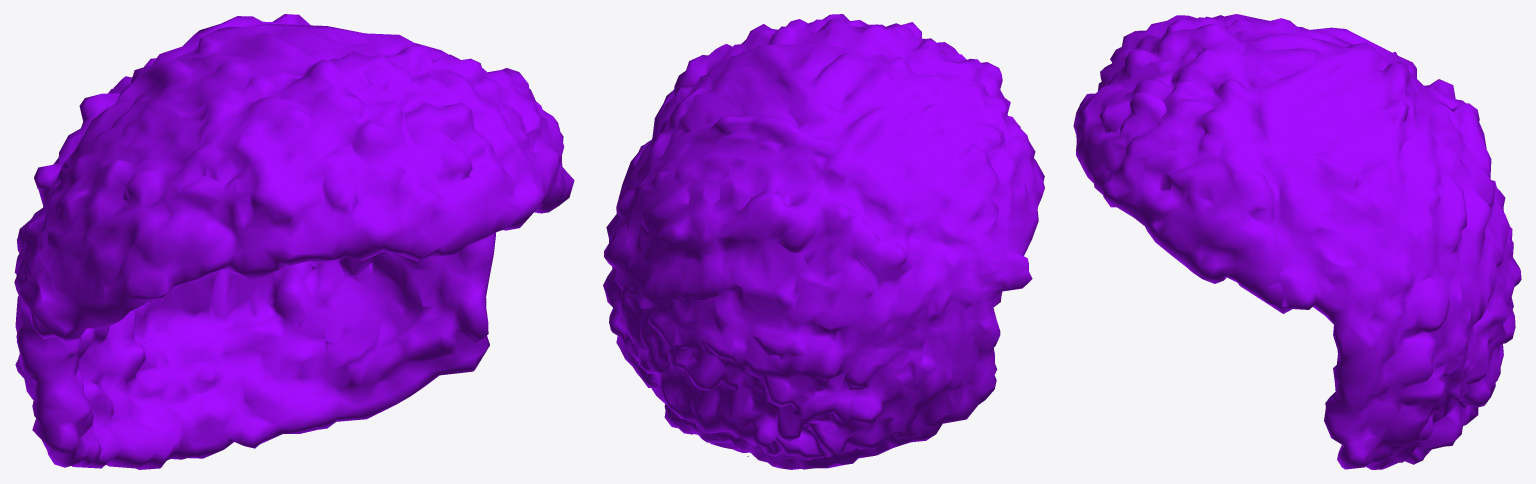
File: messy purple.glb
3 renders of one model, left to right at view 1: azimuth 30°, elevation 25°; view 2: azimuth 150°, elevation 25°; view 3: azimuth 270°, elevation 25°, orthographic. The views are drawn at different scales.
Visible parts, largest first — view 1: hair_short_messy_purple.001; view 2: hair_short_messy_purple.001; view 3: hair_short_messy_purple.001.
Boxes of the visible parts, <box> form: hair_short_messy_purple.001: <box>14,14,574,469</box>; hair_short_messy_purple.001: <box>603,14,1044,469</box>; hair_short_messy_purple.001: <box>1073,14,1521,469</box>.
Size of the model in its own units: 0.3498 by 0.3184 by 0.3202.
1 material, 1 textured.
